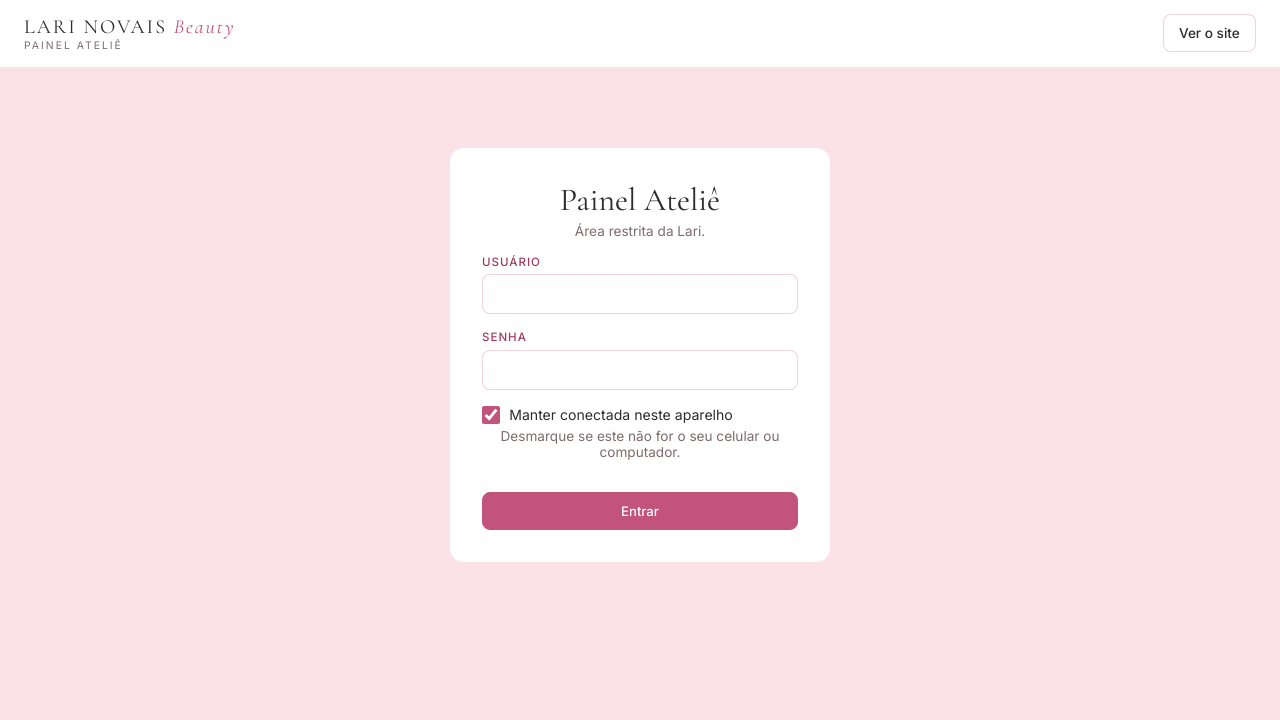
Test: Painel Ateliê › desmarcando "Manter conectada", o login vale só até fechar a aba
Click the checkbox labelled "Manter conectada neste aparelho": (491, 415) [482,406,500,424]
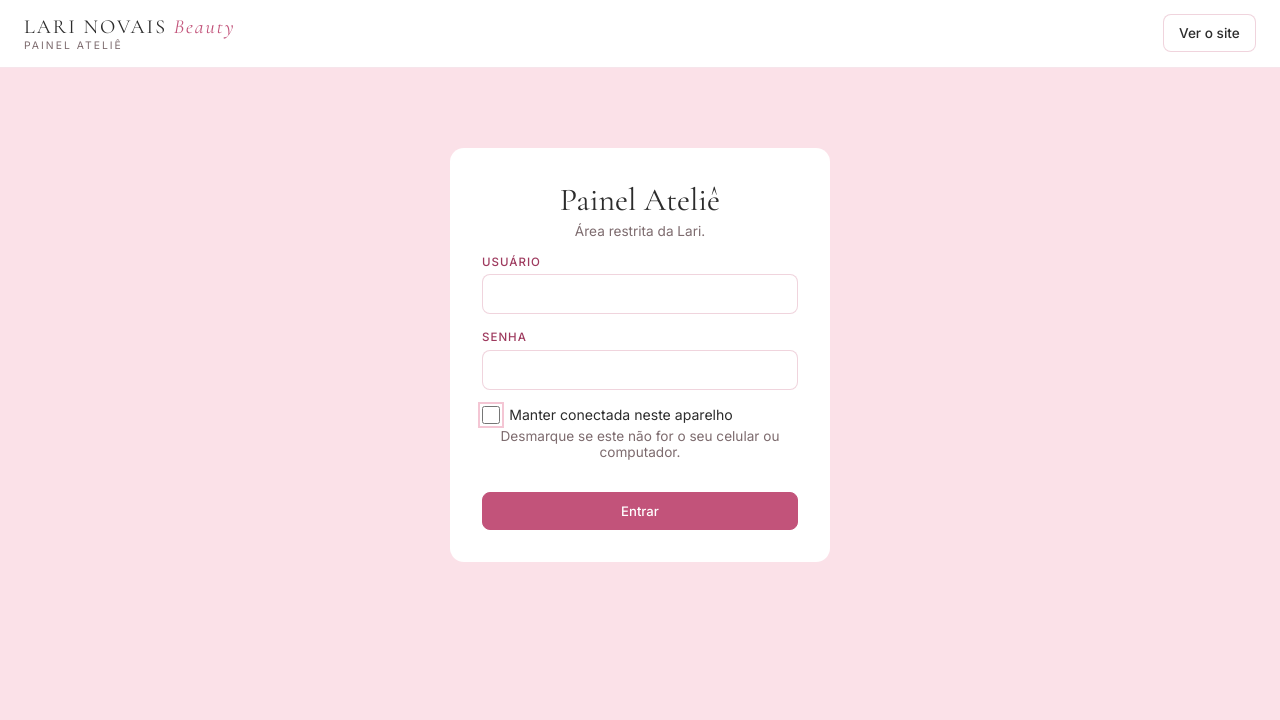
In the field labelled "Usuário": (640, 294) [482,274,798,314], type "lari"
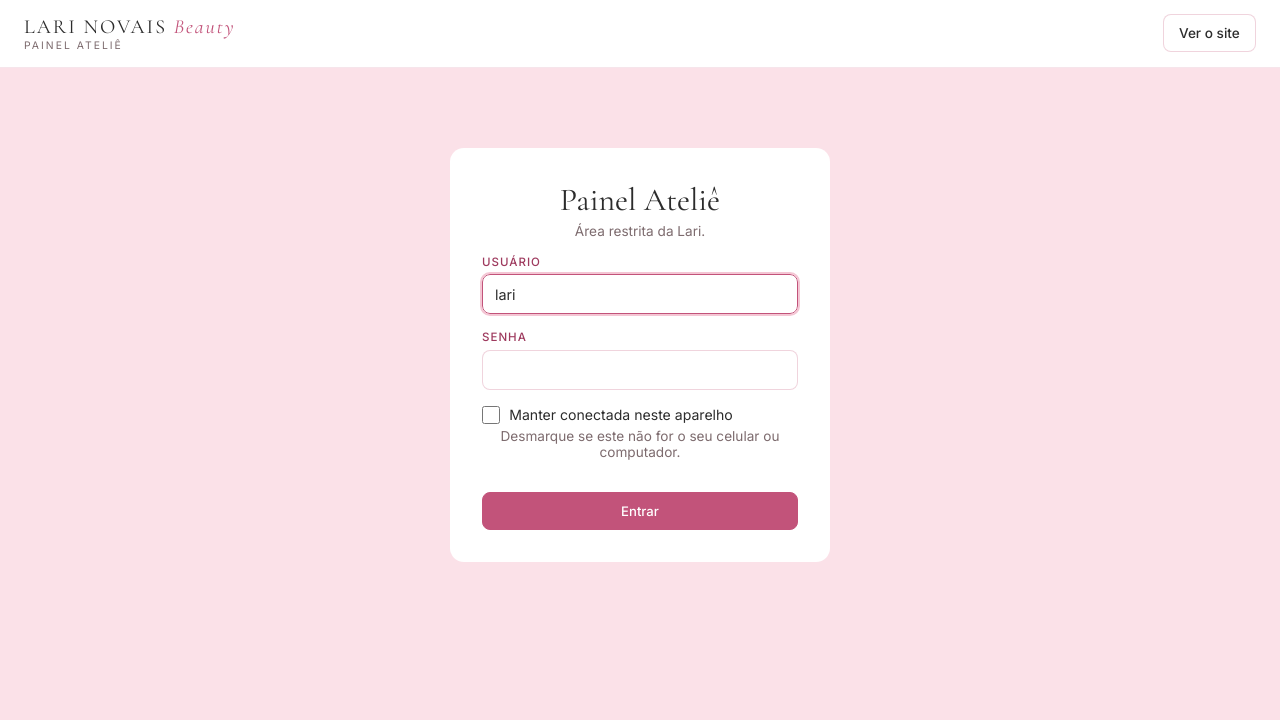
In the password field labelled "Senha": (640, 370) [482,350,798,390], type "segredo"
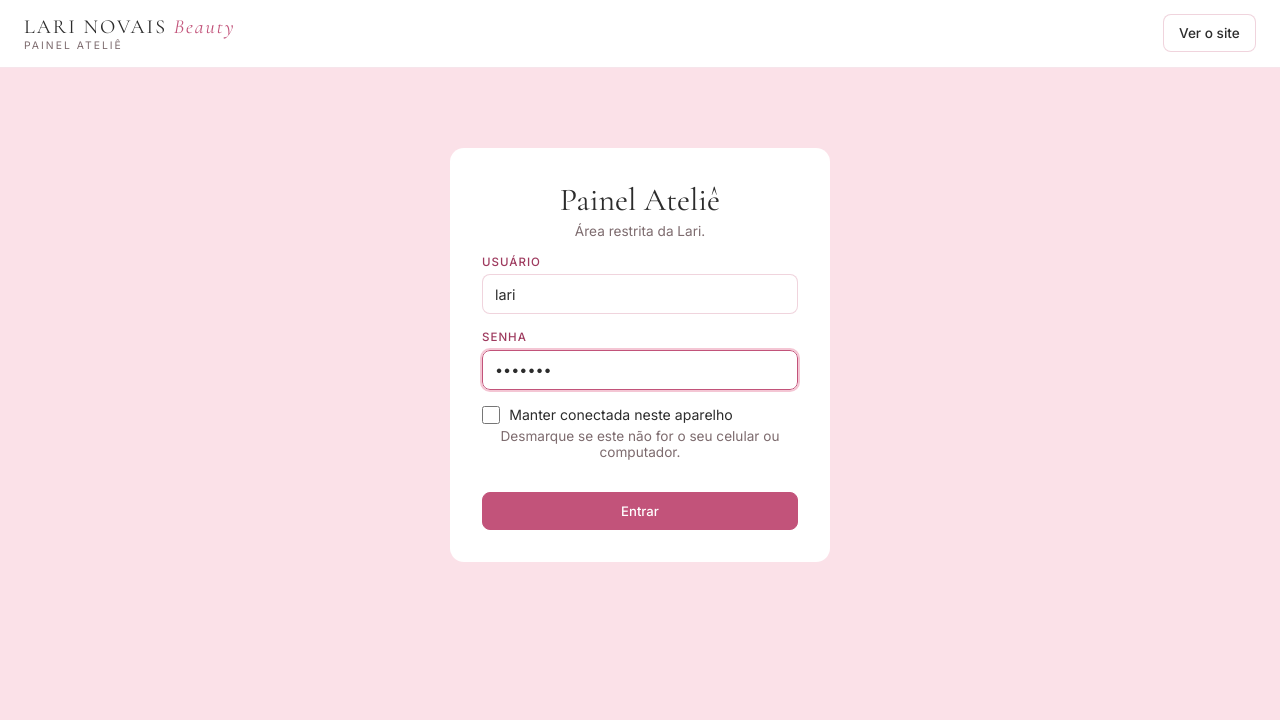
Click the button "Entrar": (640, 511) [482,492,798,530]
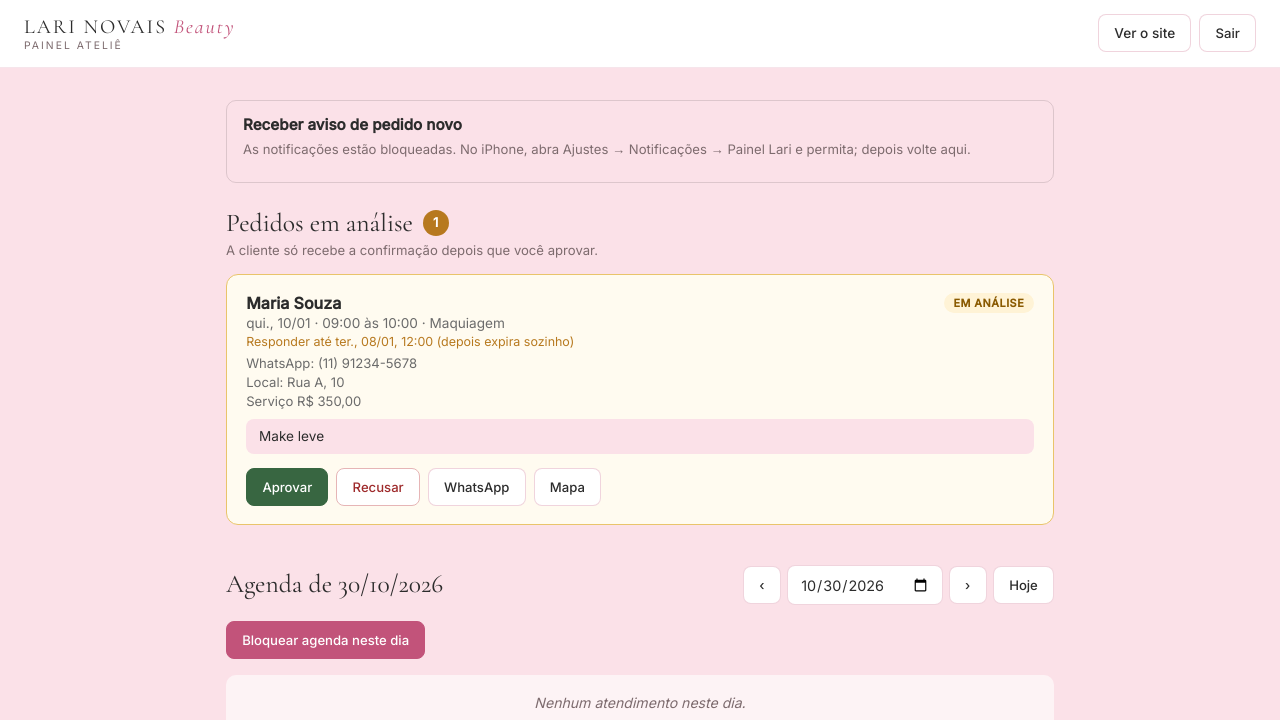
Expected: the element "Pedidos em análise" is shown, [226,207,1054,525]
